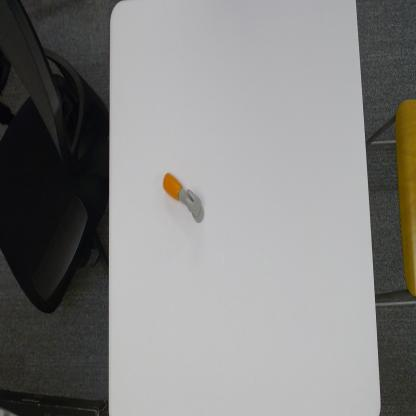Hammer: (161, 172, 205, 224)
